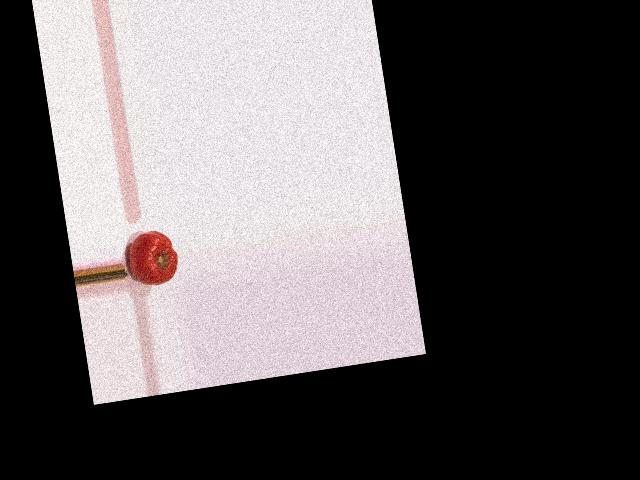tomato: (125, 228, 180, 288)
